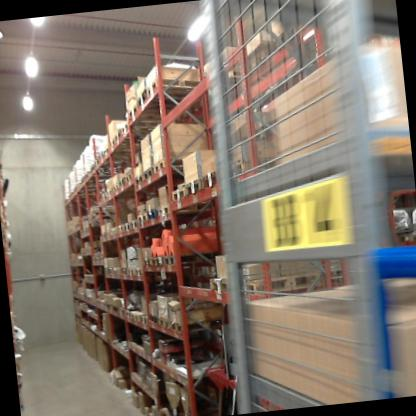pallet: (236, 265, 328, 300), (142, 71, 204, 109), (136, 81, 206, 112), (124, 97, 185, 127), (169, 313, 228, 344), (162, 250, 224, 272), (116, 117, 165, 140), (155, 200, 206, 219), (199, 167, 228, 195), (133, 170, 165, 193), (153, 156, 190, 175), (210, 274, 237, 297), (183, 175, 206, 199), (116, 173, 140, 194), (164, 184, 188, 204), (106, 136, 125, 155), (141, 165, 160, 180), (157, 311, 169, 334), (150, 254, 165, 269), (141, 254, 153, 271), (136, 210, 148, 225), (147, 313, 158, 329), (131, 312, 146, 323), (134, 267, 148, 278), (124, 172, 139, 182), (140, 314, 149, 330), (109, 180, 120, 193), (146, 209, 158, 220), (122, 219, 132, 232), (129, 217, 138, 231), (115, 222, 124, 234)
pallet_truck: (144, 367, 169, 416), (162, 377, 184, 416), (175, 379, 196, 416)
